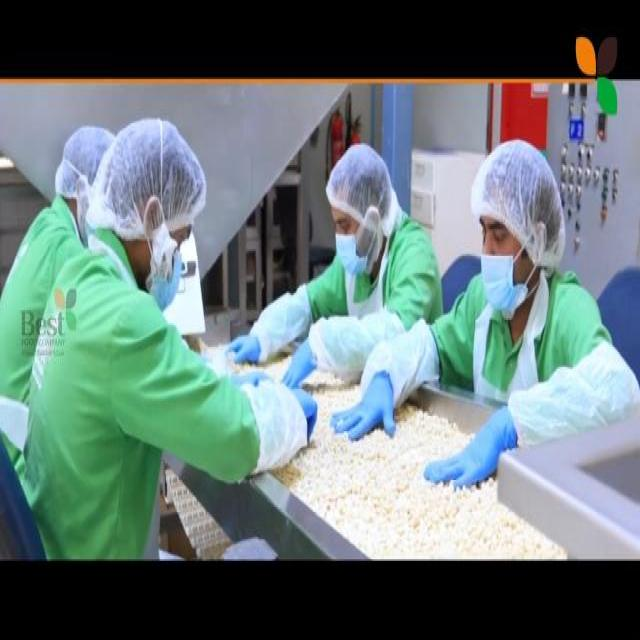hairnet: (90, 118, 204, 224), (473, 141, 555, 234), (328, 143, 392, 208), (54, 125, 91, 189)
